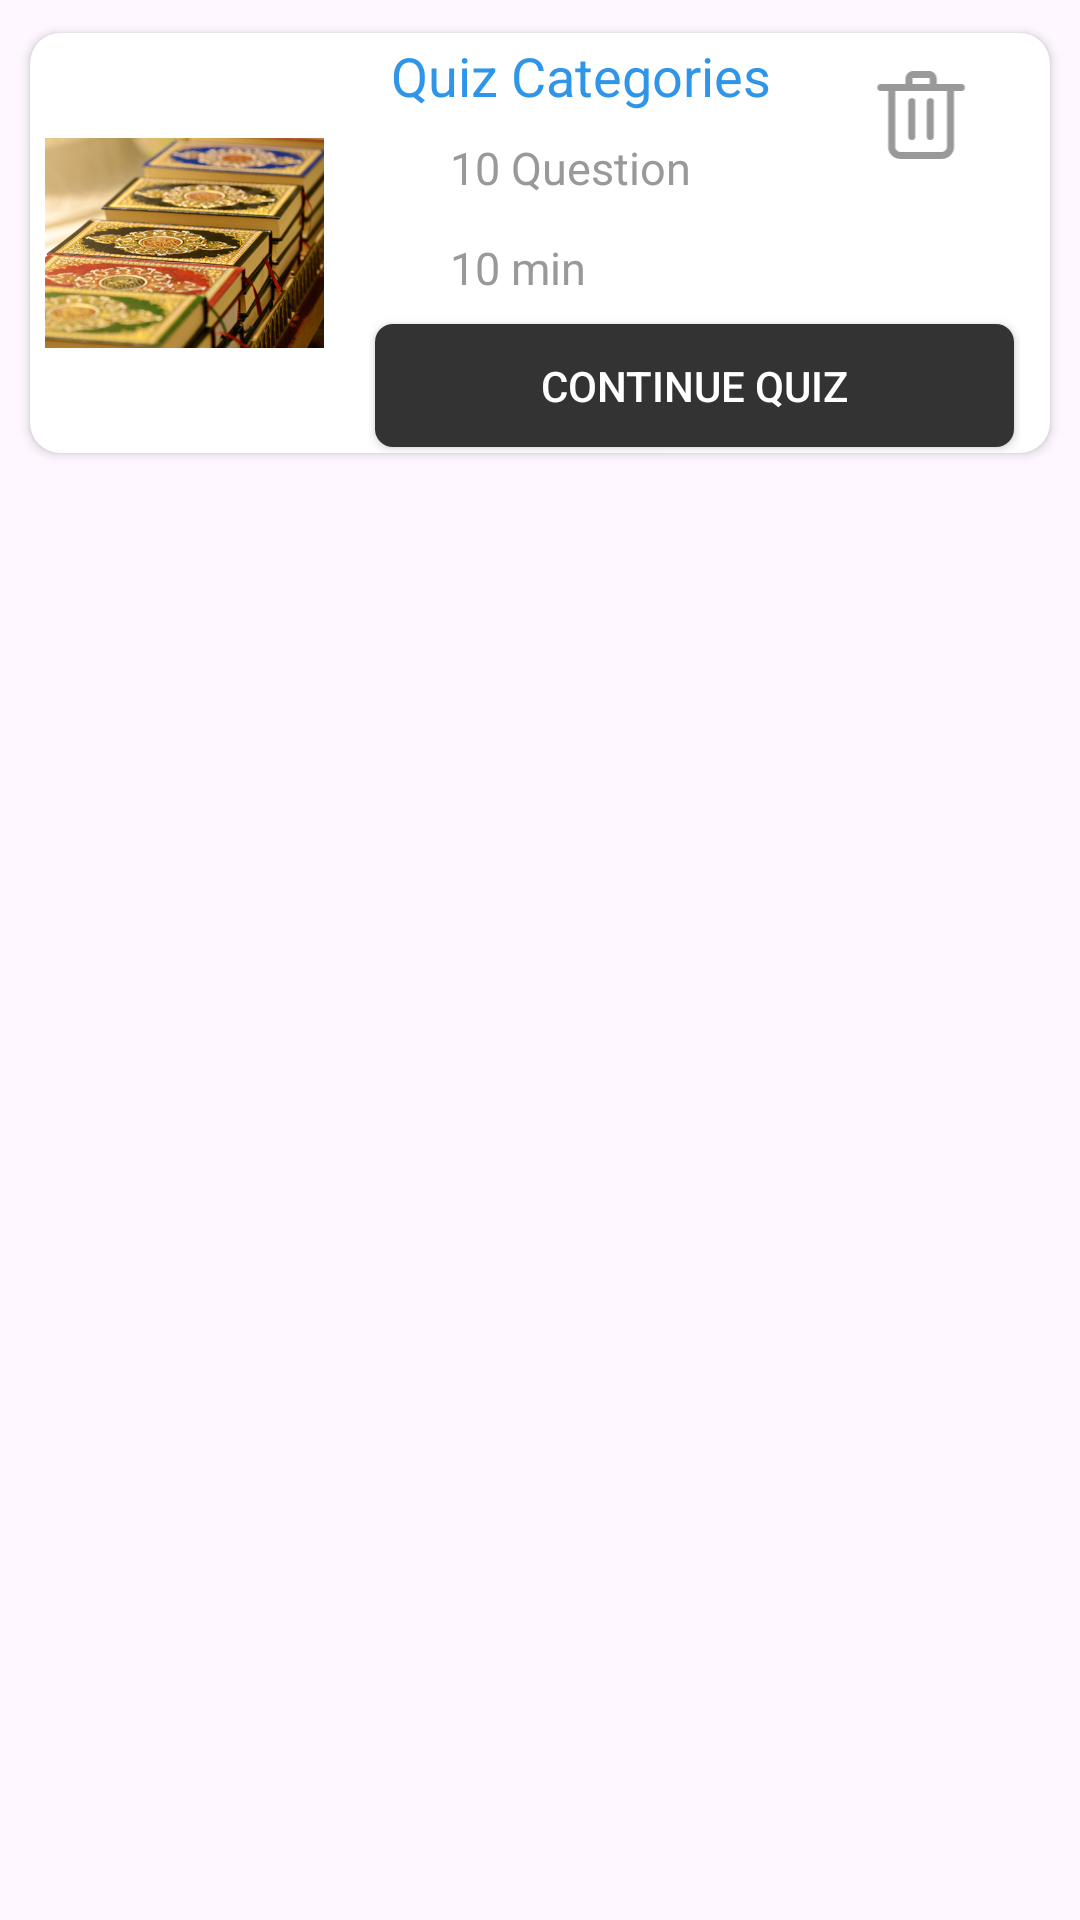

Screen size 1080 x 1920. Icon name, then its center in pixels as (x,y):
delete: (921,115)
